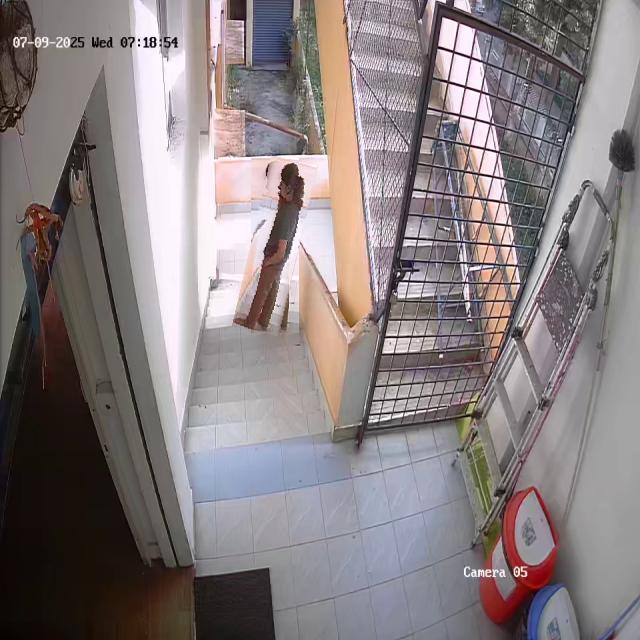person: (242, 156, 309, 334)
